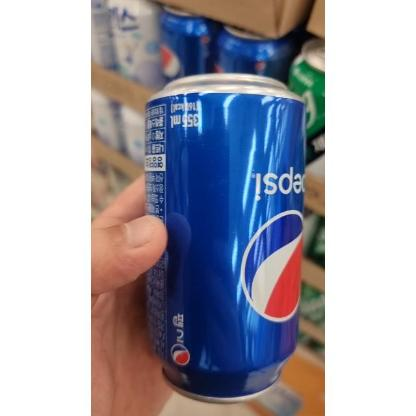Can: (144, 72, 304, 404)
